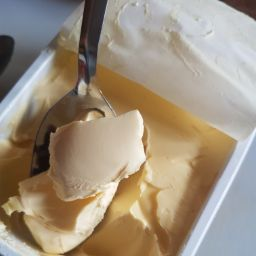Butter: (4, 54, 216, 256)
